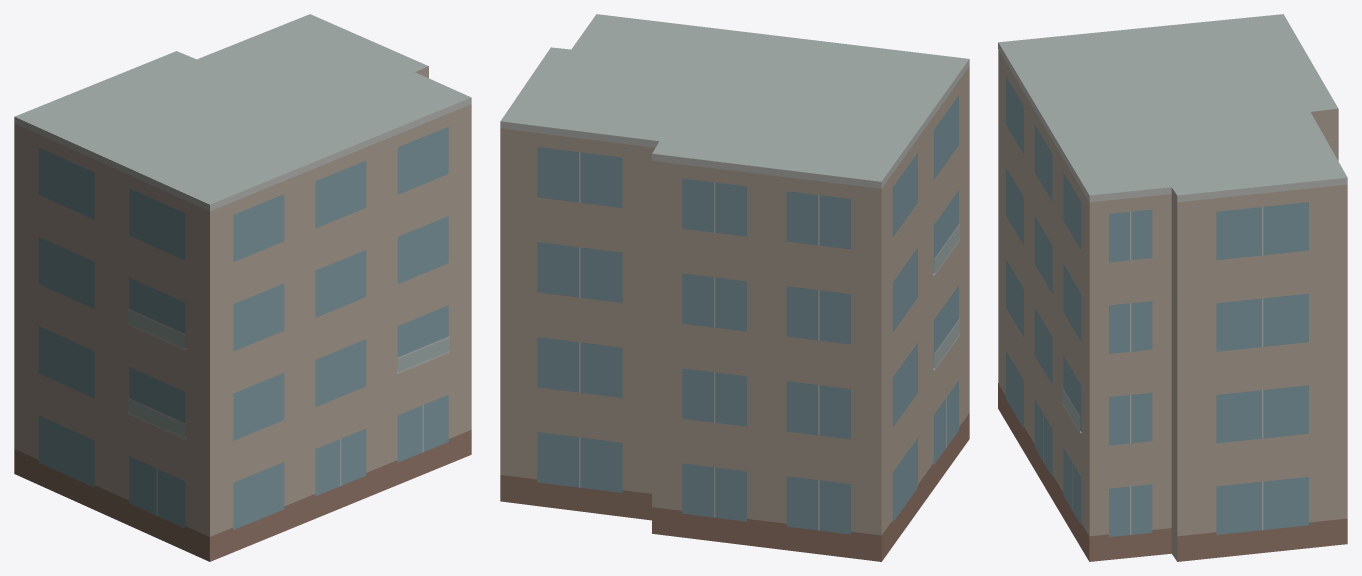
File: survey-upis-32966157.glb
3 views of the same model, side by side, from view 1: azimuth 30°, elevation 25°; view 2: azimuth 150°, elevation 25°; view 3: azimuth 270°, elevation 25° (orthographic). The views are drawn at different scales.
Parts seen in each view (by area): view 1: survey-upis-32966157.tmp; view 2: survey-upis-32966157.tmp; view 3: survey-upis-32966157.tmp.
Part boxes in pixels (left/top/right/bottom): survey-upis-32966157.tmp: left=14, top=14, right=471, bottom=561; survey-upis-32966157.tmp: left=500, top=14, right=969, bottom=561; survey-upis-32966157.tmp: left=998, top=14, right=1347, bottom=561.
Bounding box in the file's own units: 13.98 × 13.15 × 11.38.
